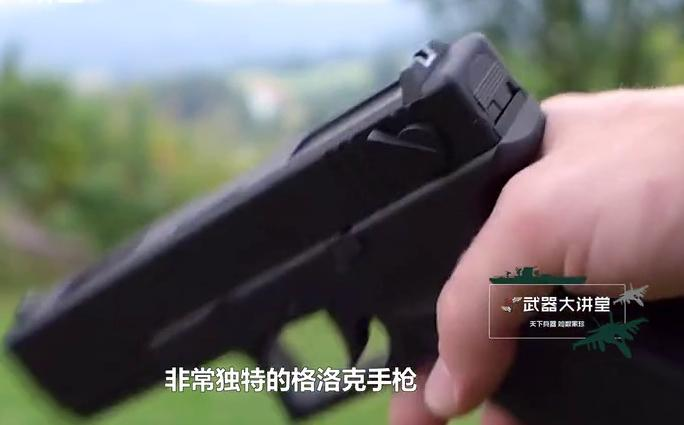gun: (1, 1, 684, 425)
